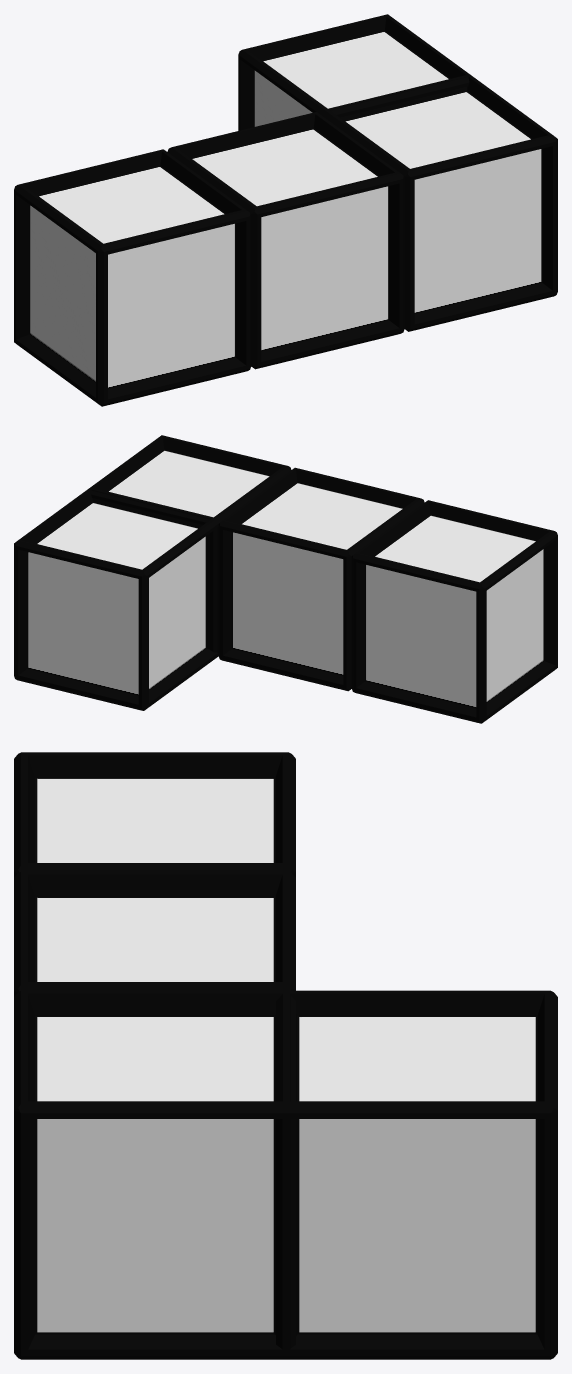
The model's file is Enemy 2.fbx.
3 views of the same model, one above another, from view 1: azimuth 30°, elevation 25°; view 2: azimuth 150°, elevation 25°; view 3: azimuth 270°, elevation 25° (orthographic). The views are drawn at different scales.
Parts seen in each view (by area): view 1: Enemy 2; view 2: Enemy 2; view 3: Enemy 2.
Boxes of the visible parts, box(x1,y1,x2,y2) form: Enemy 2: box(14, 14, 557, 406); Enemy 2: box(14, 435, 557, 723); Enemy 2: box(14, 752, 557, 1359).
Bounding box in the file's own units: 600 × 200 × 386.
